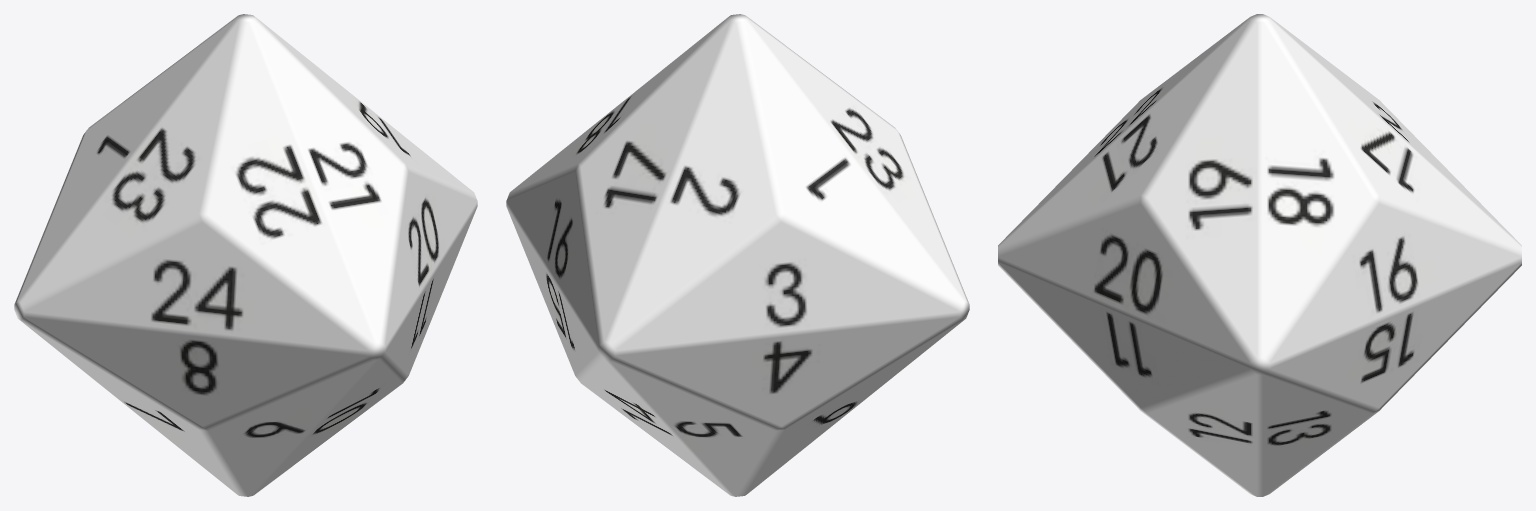
3 renders of one model, left to right at view 1: azimuth 30°, elevation 25°; view 2: azimuth 150°, elevation 25°; view 3: azimuth 270°, elevation 25°, orthographic.
Visible parts, largest first — view 1: D24; view 2: D24; view 3: D24.
Part boxes in pixels (x1,y1,x2,y2): D24: [14, 14, 477, 496]; D24: [506, 14, 969, 496]; D24: [998, 14, 1521, 496].
Bounding box in the file's own units: 0.0284 × 0.0284 × 0.0284.
Materials: 1 (1 with a texture image).
